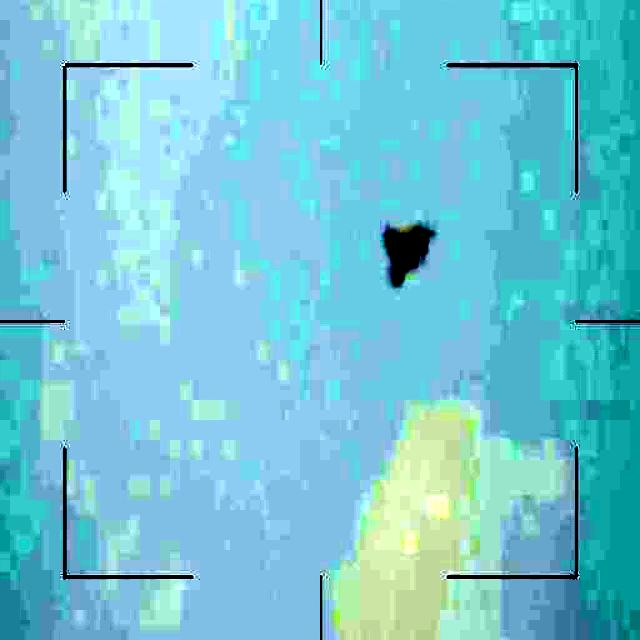bird: (384, 210, 432, 294)
